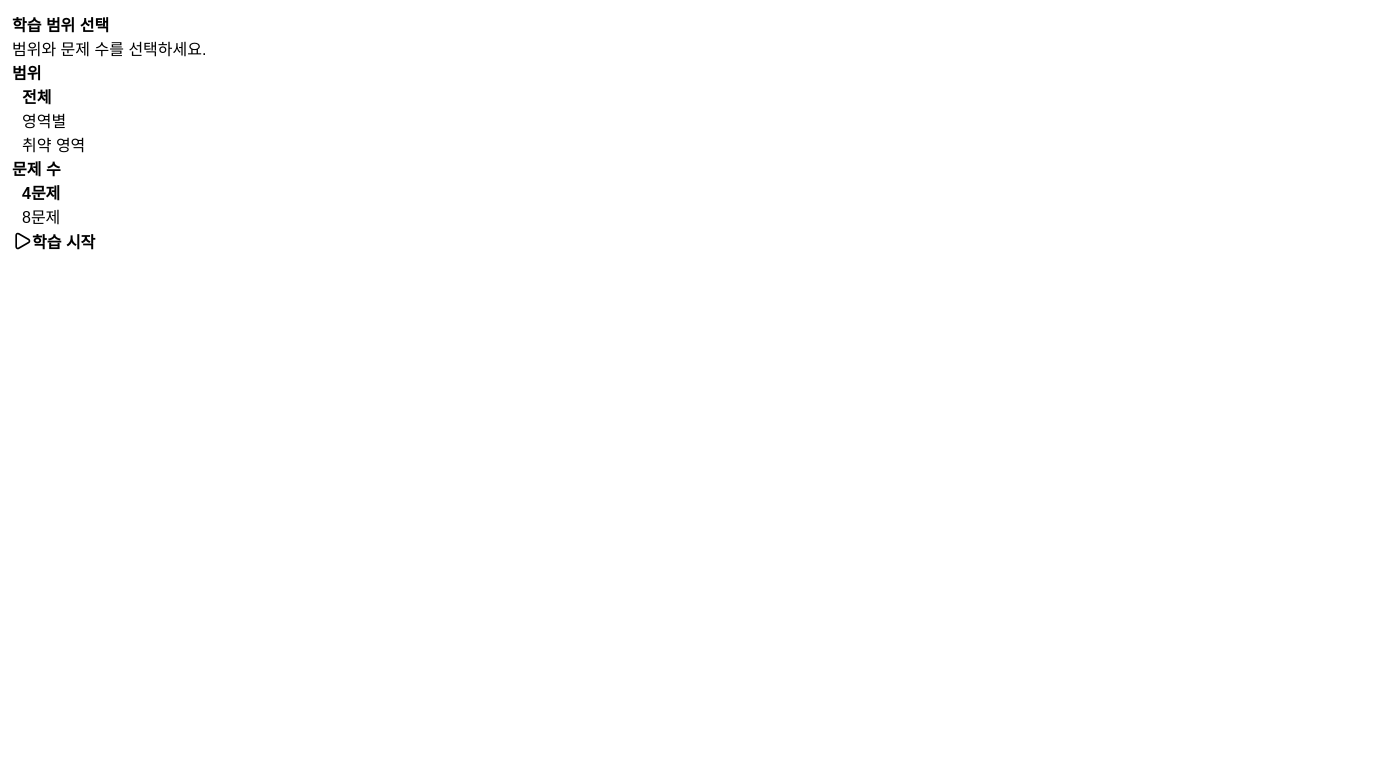
Test: 브라우저 저장 실패 + 네트워크 실패 재시도 (#52) › 보기 선택 → 재시도 시 선택 답안을 보존하고 같은 문제를 한 번만 재전송한다
Click the button "학습 시작" at (54, 241), box [12,228,95,254]
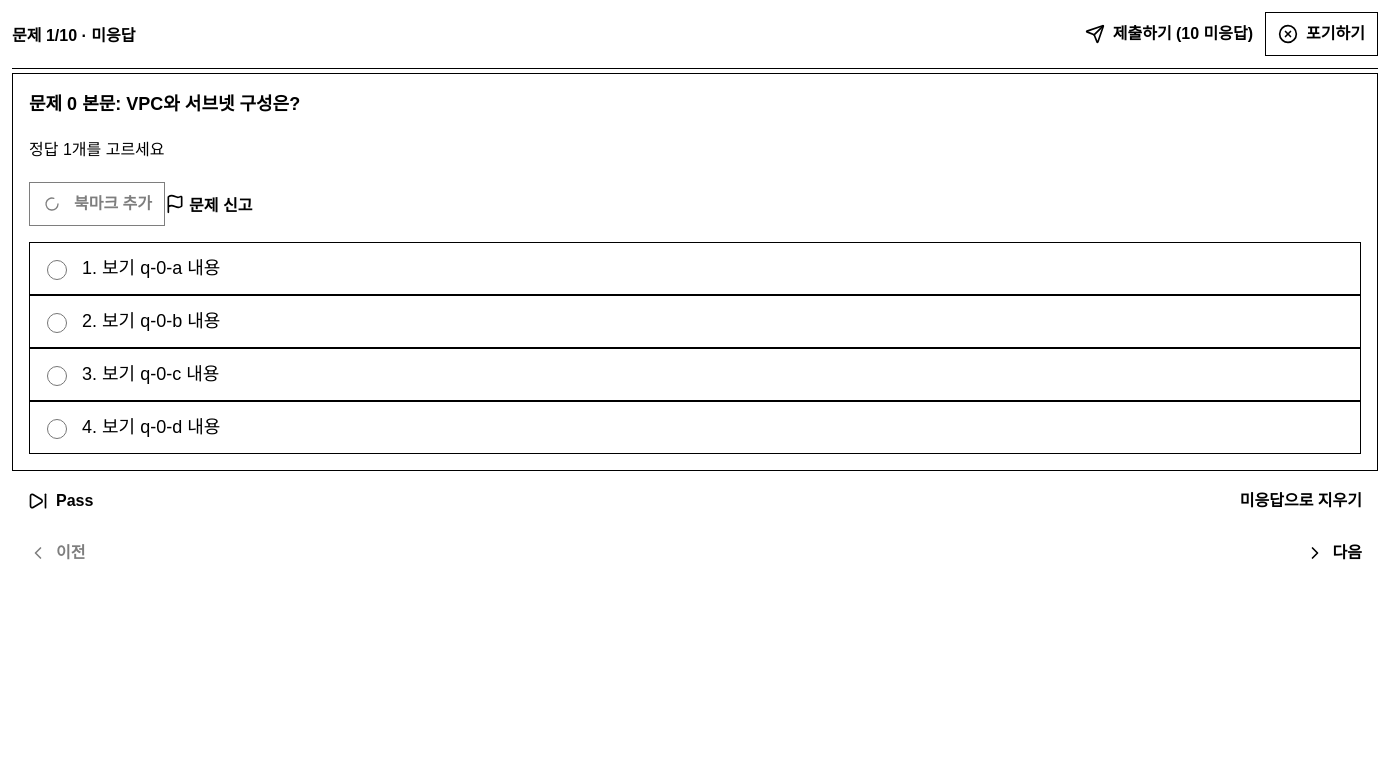
Now the text "문제 1/10 · 미응답" is shown, box [12,22,136,46]
Click the radio button with aria-label "보기 1" at (57, 270), box [47,260,67,280]
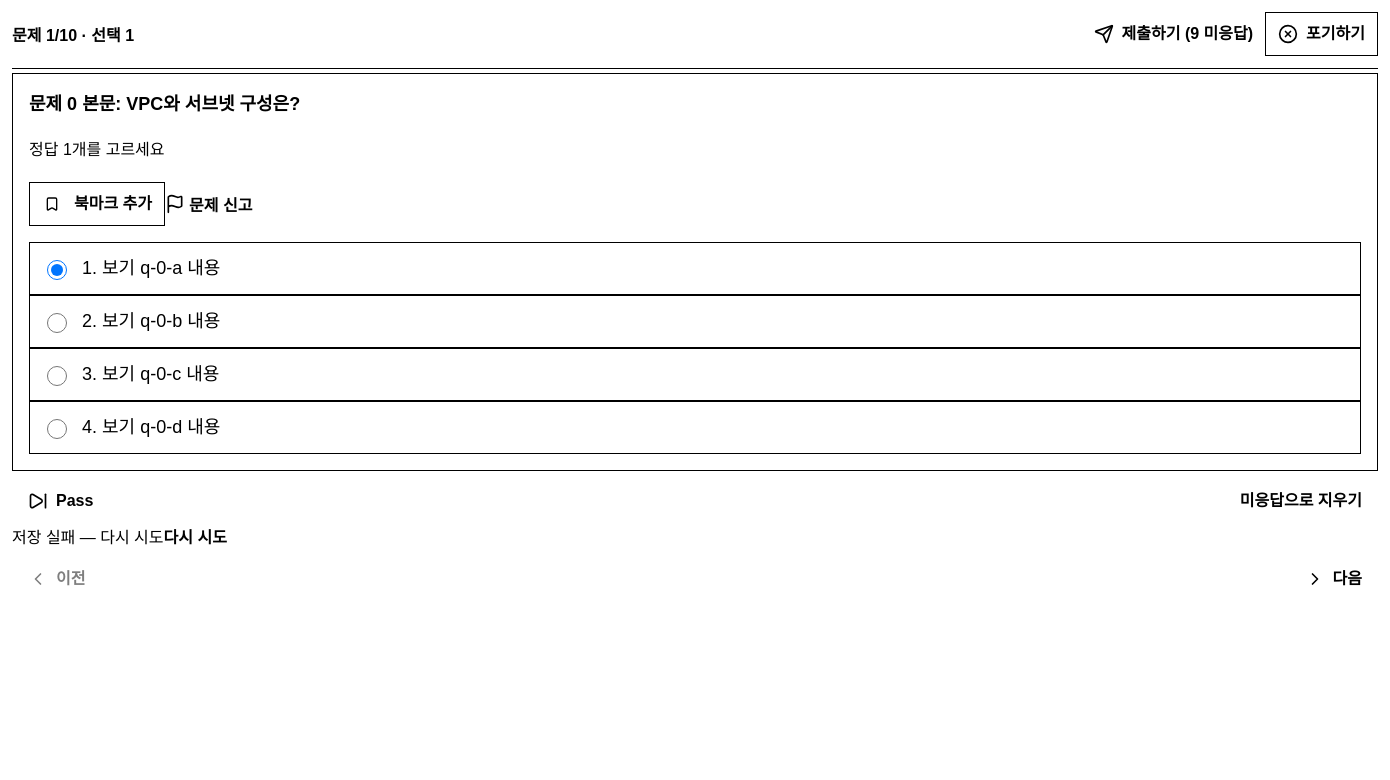
Expected: the text "저장됨" is not shown
Now the radio button with aria-label "보기 1" is checked, box [47,260,67,280]
Now the text "저장 실패 — 다시 시도 다시 시도" is shown, box [12,523,227,549]
Click the button "다시 시도" at (195, 536), box [164,523,227,549]
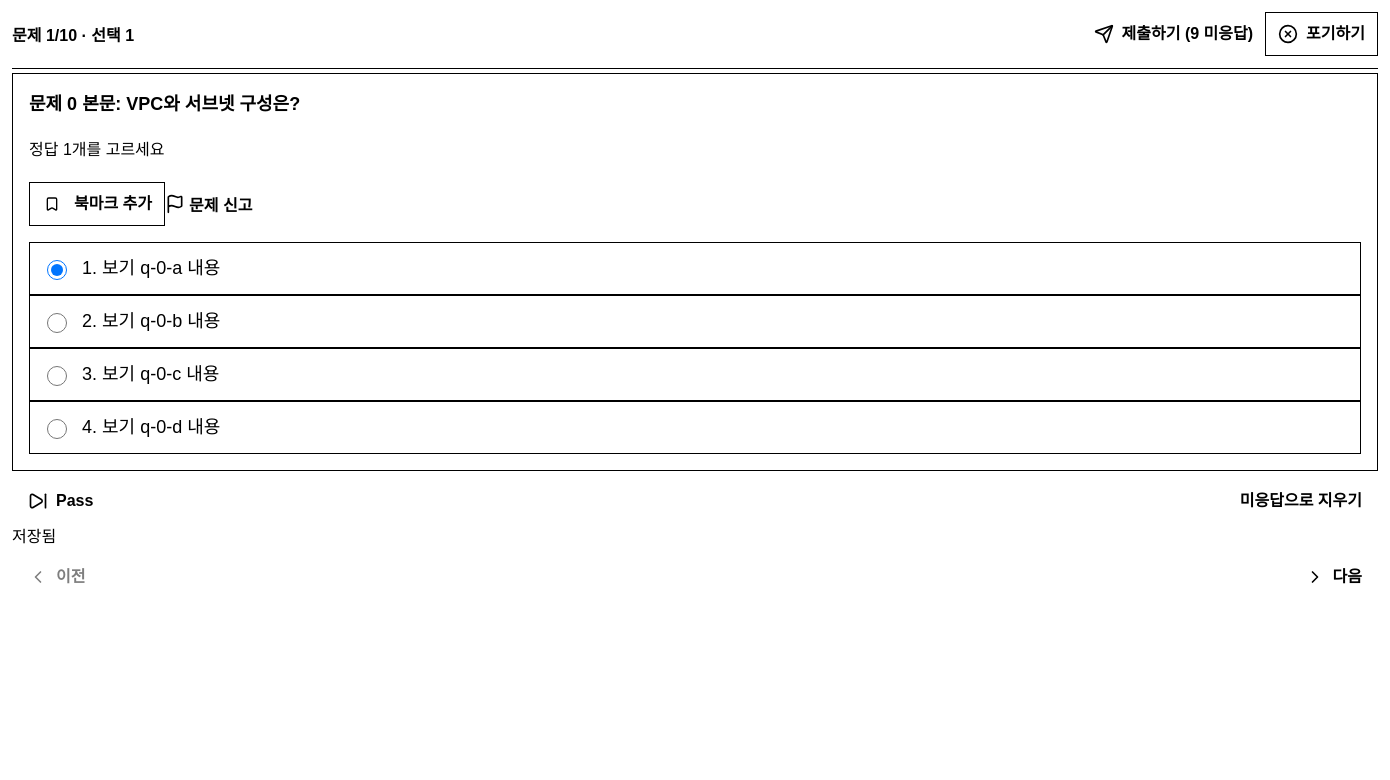
Now the radio button with aria-label "보기 1" is checked, box [47,260,67,280]
Now the text "저장됨" is shown, box [12,528,56,545]
